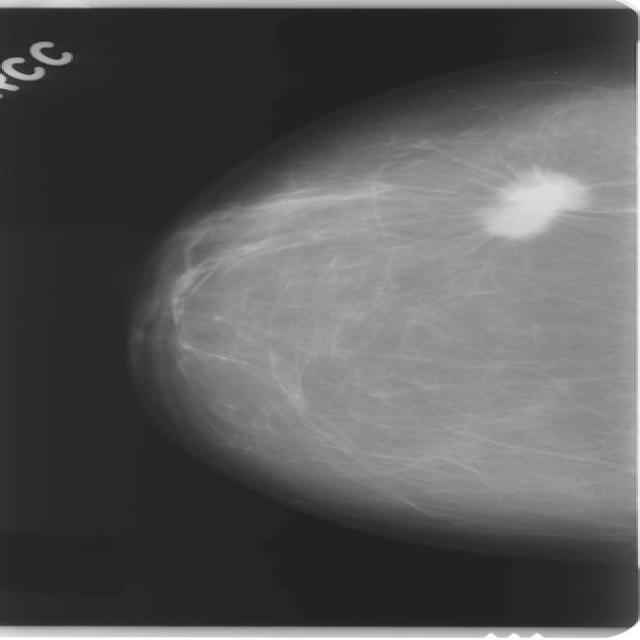tumour: (474, 167, 589, 240)
